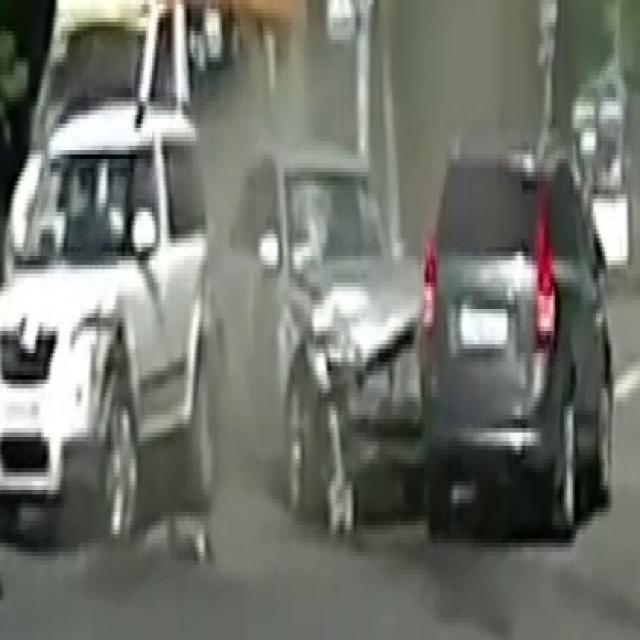accident: (224, 118, 424, 527)
